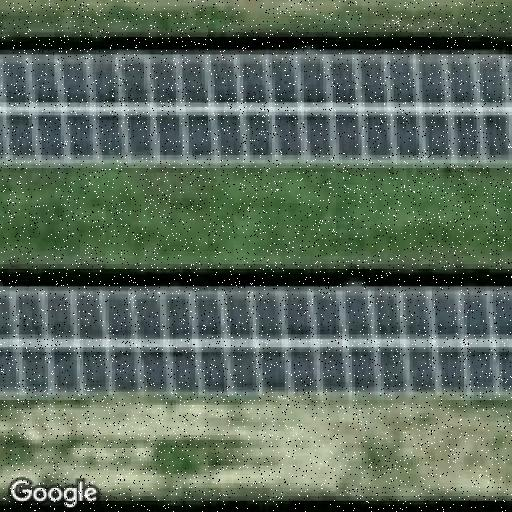solar-panel: (0, 50, 512, 166), (0, 290, 512, 396)
